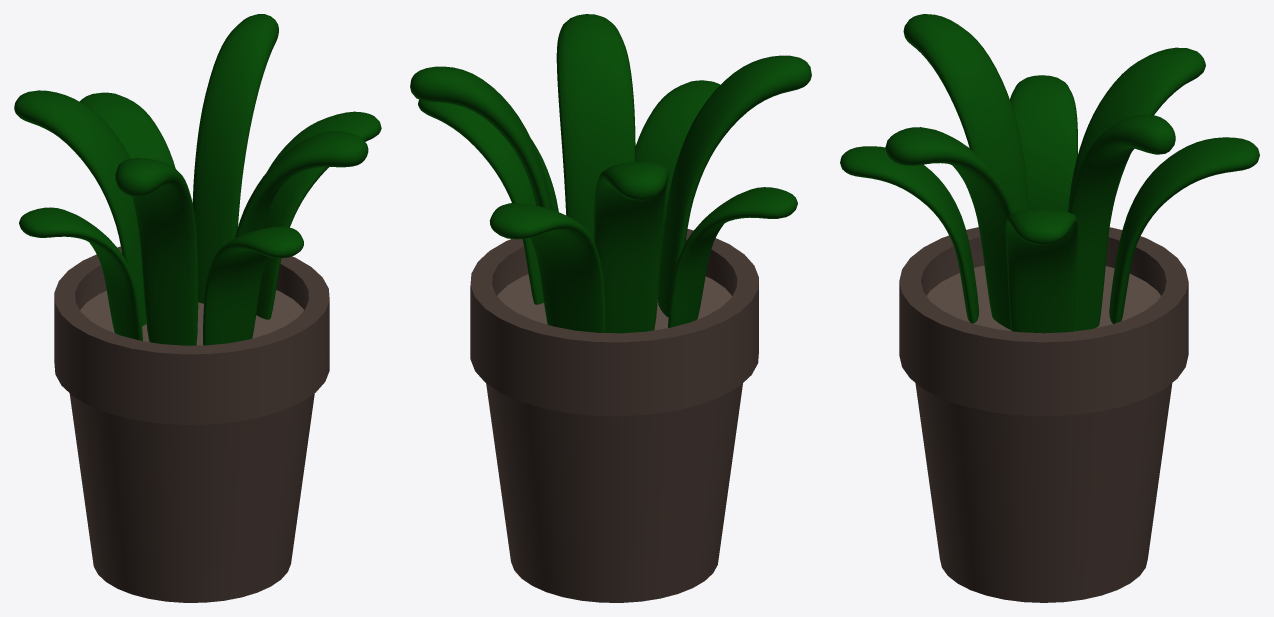
The model's file is Plante3_7.fbx.
3 views of the same model, side by side, from view 1: azimuth 30°, elevation 25°; view 2: azimuth 150°, elevation 25°; view 3: azimuth 270°, elevation 25° (orthographic). The views are drawn at different scales.
Parts seen in each view (by area): view 1: pCylinder728, pCube1923, pCube1927, pCube1921, pCube1926, pCube1928, pCube1925, pCube1922, pCube1924, pCylinder729; view 2: pCylinder728, pCube1922, pCube1921, pCube1927, pCube1924, pCube1928, pCube1923, pCube1925, pCube1926, pCylinder729; view 3: pCylinder728, pCube1927, pCube1923, pCube1925, pCube1922, pCube1928, pCube1924, pCube1921, pCube1926, pCylinder729.
Part boxes in pixels (<box>): pCylinder728: <box>54,246,329,602</box>; pCube1923: <box>192,14,278,303</box>; pCube1927: <box>115,158,198,345</box>; pCube1921: <box>14,90,146,326</box>; pCube1926: <box>203,226,303,345</box>; pCube1928: <box>19,207,142,340</box>; pCube1925: <box>256,111,381,319</box>; pCube1922: <box>235,131,368,237</box>; pCube1924: <box>79,92,175,168</box>; pCylinder729: <box>80,290,303,345</box>; pCylinder728: <box>470,229,758,602</box>; pCube1922: <box>556,14,635,240</box>; pCube1921: <box>594,162,668,333</box>; pCube1927: <box>658,55,811,317</box>; pCube1924: <box>489,203,605,332</box>; pCube1928: <box>668,187,797,327</box>; pCube1923: <box>410,66,552,209</box>; pCube1925: <box>418,99,558,304</box>; pCube1926: <box>635,80,720,279</box>; pCylinder729: <box>497,274,731,330</box>; pCylinder728: <box>899,227,1188,602</box>; pCube1927: <box>903,14,1028,211</box>; pCube1923: <box>1068,114,1175,331</box>; pCube1925: <box>1005,208,1078,333</box>; pCube1922: <box>885,127,1014,329</box>; pCube1928: <box>1010,75,1077,211</box>; pCube1924: <box>1109,137,1259,323</box>; pCube1921: <box>1068,47,1205,221</box>; pCube1926: <box>840,146,979,323</box>; pCylinder729: <box>927,265,1160,330</box>.
Bounding box in the file's own units: 16.65 × 21.34 × 16.27.
